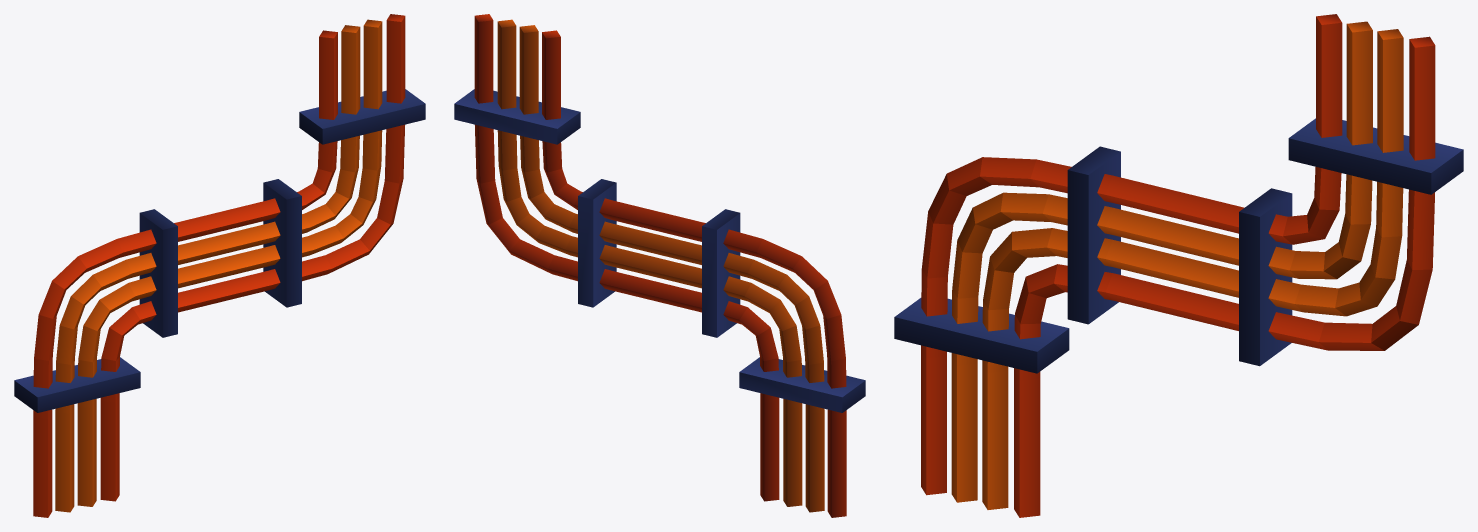
The model's file is FiosOrganizados.fbx.
3 renders of one model, left to right at view 1: azimuth 30°, elevation 25°; view 2: azimuth 150°, elevation 25°; view 3: azimuth 330°, elevation 25°, orthographic. The views are drawn at different scales.
Parts seen in each view (by area): view 1: FiosOrganizados; view 2: FiosOrganizados; view 3: FiosOrganizados.
Part boxes in pixels (x1=…): FiosOrganizados: x1=14, y1=14, x2=425, y2=517; FiosOrganizados: x1=454, y1=14, x2=865, y2=517; FiosOrganizados: x1=894, y1=14, x2=1463, y2=517.
Bounding box in the file's own units: 102 × 102 × 10.57.
